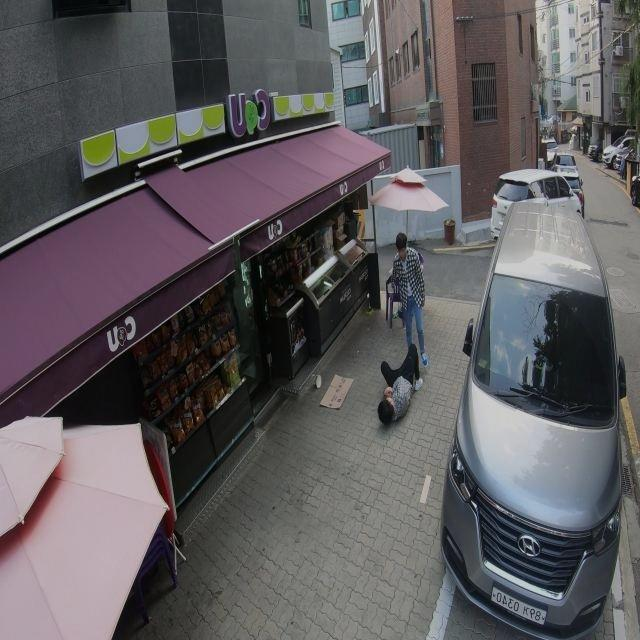fight: (378, 231, 429, 421)
